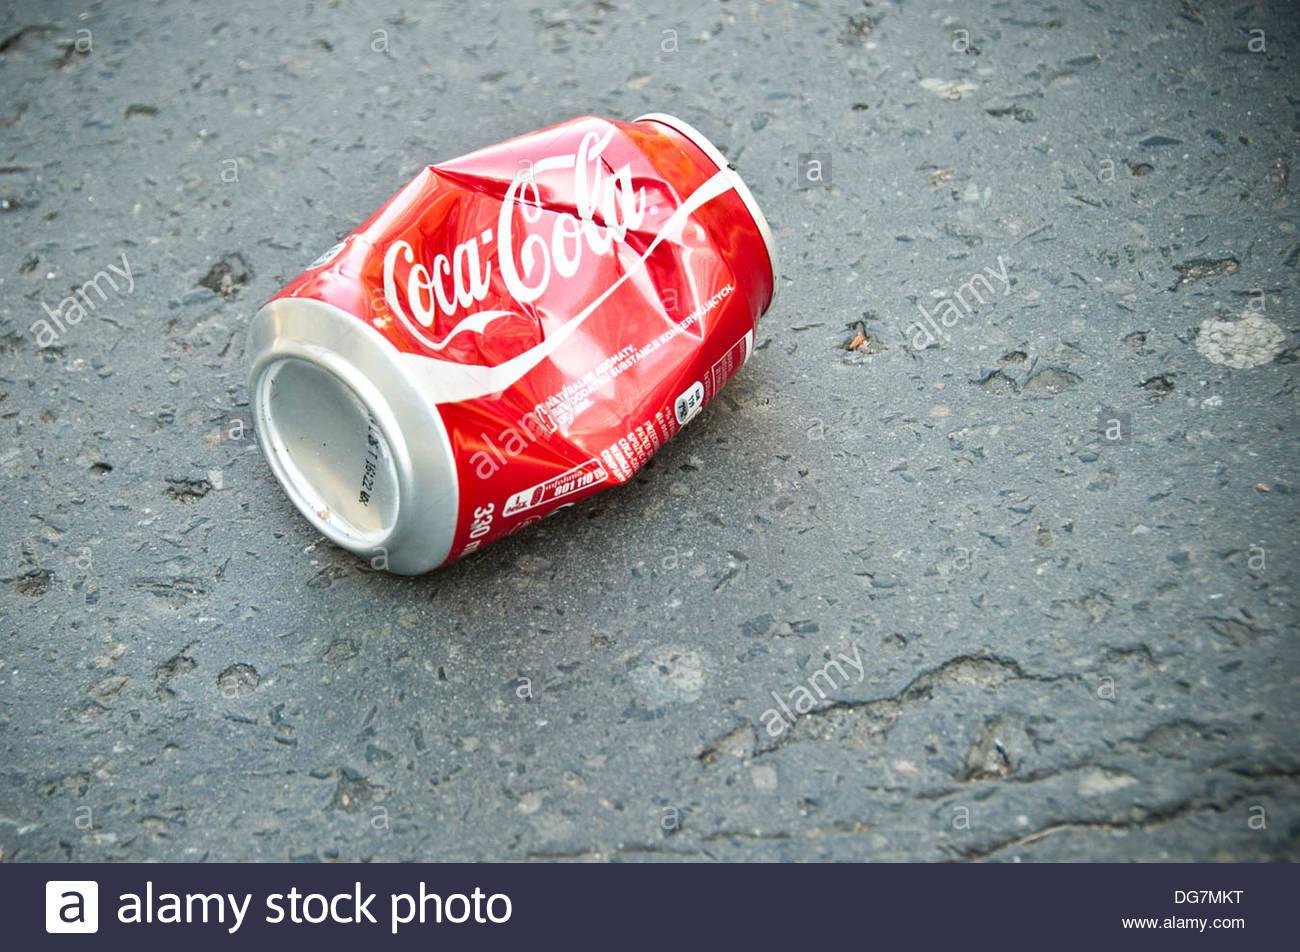metal: (233, 99, 770, 574)
